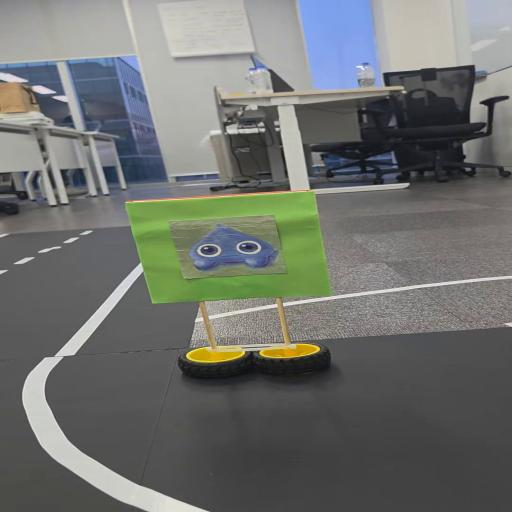Sign_B: (117, 187, 355, 391)
